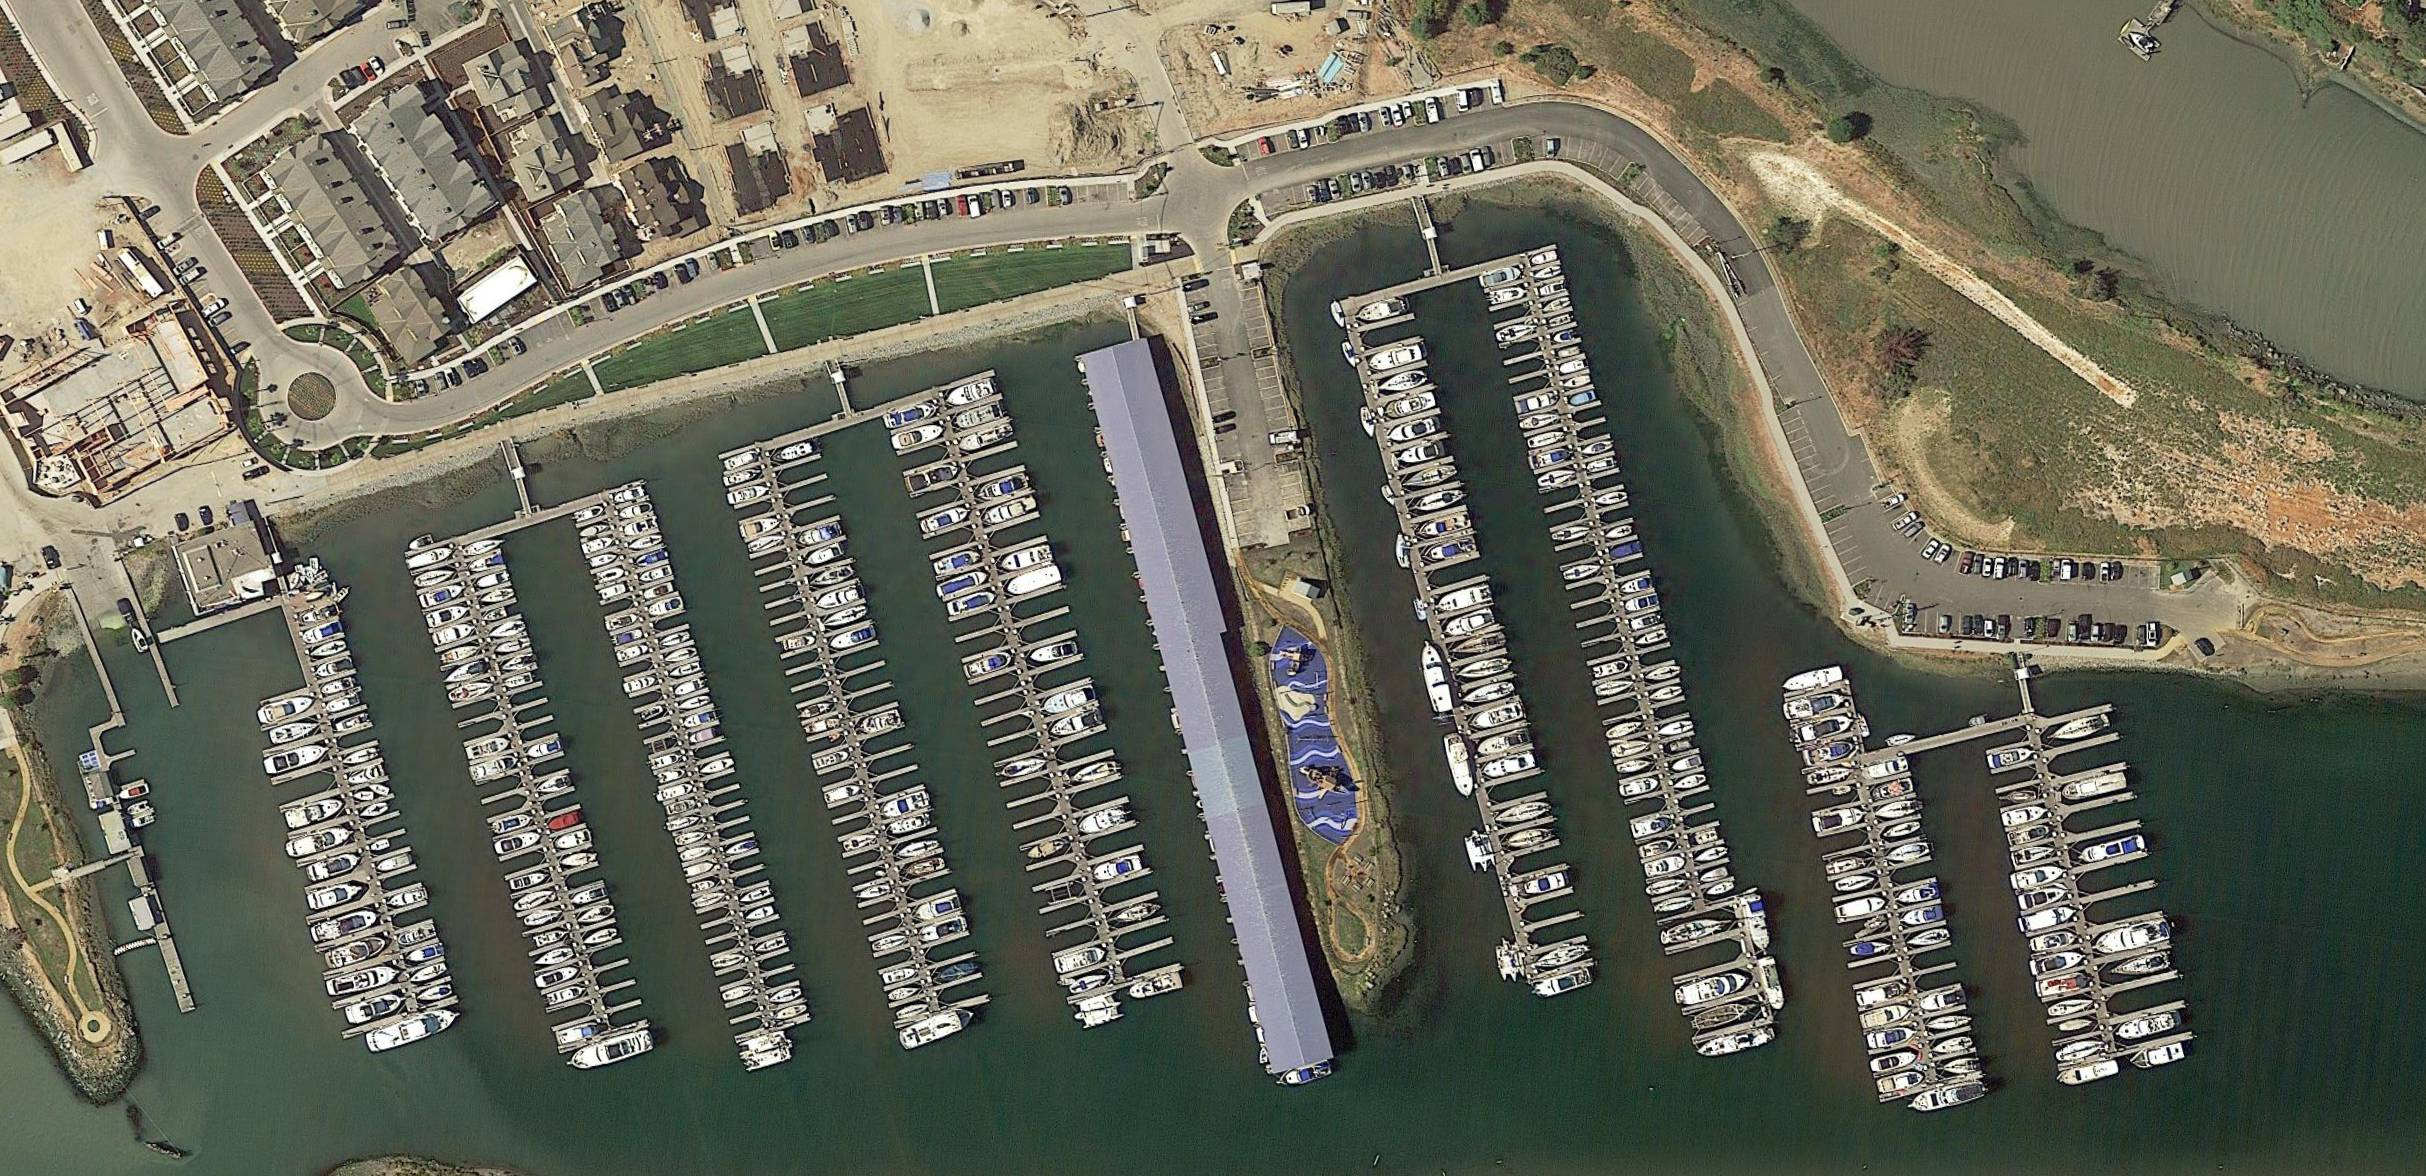harbor: (1478, 241, 1775, 1052), (885, 370, 1185, 1007), (1340, 280, 1598, 989), (716, 422, 995, 1034), (569, 477, 814, 1049), (404, 525, 654, 1058), (227, 590, 461, 1041), (1782, 668, 1985, 1106), (1979, 692, 2195, 1074), (74, 710, 215, 1021)
roundabout: (285, 365, 342, 426), (85, 1018, 104, 1035)
ship: (364, 1003, 463, 1058), (568, 1026, 656, 1074), (897, 1004, 979, 1052), (2093, 918, 2172, 958), (1905, 1079, 1987, 1117), (1696, 1023, 1778, 1061), (1416, 638, 1456, 715), (323, 962, 402, 1000), (1679, 969, 1751, 1009), (285, 823, 357, 860), (1690, 997, 1761, 1034), (1665, 911, 1734, 949), (323, 933, 390, 972), (261, 741, 333, 777), (309, 908, 381, 944), (738, 1029, 794, 1074), (1072, 989, 1126, 1034), (2113, 1007, 2183, 1041), (2059, 771, 2127, 805), (1739, 891, 1775, 955), (343, 990, 408, 1024), (1782, 689, 1847, 723), (2076, 832, 2144, 865), (1532, 967, 1594, 1003), (255, 692, 319, 726), (1273, 1057, 1334, 1092), (2107, 950, 2172, 983), (2058, 1057, 2123, 1089), (285, 795, 347, 829), (1040, 682, 1099, 718), (1792, 712, 1855, 744), (303, 850, 364, 884), (981, 494, 1038, 529), (955, 421, 1017, 453), (1417, 534, 1478, 566), (1755, 956, 1789, 1014), (2018, 904, 2079, 935), (1491, 798, 1553, 829), (306, 879, 365, 911), (882, 399, 941, 432), (1779, 665, 1844, 695), (1414, 511, 1473, 543), (890, 421, 948, 453), (904, 461, 962, 494), (1006, 563, 1061, 597), (1468, 699, 1524, 733), (1352, 294, 1413, 325), (942, 376, 999, 409), (935, 566, 992, 599), (1047, 709, 1105, 741), (1474, 727, 1532, 760), (1532, 941, 1589, 973), (2045, 713, 2104, 744), (2010, 860, 2069, 891), (1054, 942, 1109, 975), (998, 543, 1054, 576), (1481, 749, 1536, 781), (1075, 805, 1128, 839), (2035, 969, 2092, 1000), (1411, 484, 1468, 515), (1450, 630, 1507, 661), (1493, 936, 1529, 986), (1437, 583, 1491, 616), (1400, 461, 1459, 491), (1368, 342, 1423, 373), (1386, 415, 1442, 446), (917, 503, 973, 534), (976, 472, 1029, 504), (962, 648, 1015, 681), (1444, 607, 1496, 639), (1461, 679, 1518, 709), (268, 716, 322, 747), (2030, 949, 2089, 976), (2130, 1041, 2186, 1071), (1128, 972, 1184, 1001), (1464, 826, 1498, 874), (877, 791, 930, 822), (910, 893, 962, 924), (1377, 367, 1430, 398), (815, 582, 866, 613), (917, 914, 969, 945), (1092, 853, 1143, 884), (1812, 805, 1867, 832), (1854, 979, 1909, 1007), (1454, 655, 1510, 682), (2055, 1035, 2107, 1065), (1860, 1001, 1912, 1031), (1111, 897, 1163, 927), (945, 588, 998, 617), (955, 401, 1004, 432), (1802, 740, 1857, 767), (1833, 893, 1888, 921), (1383, 391, 1437, 419), (1866, 1023, 1919, 1051), (1068, 760, 1120, 788), (470, 752, 520, 781), (1874, 795, 1923, 825), (1029, 639, 1078, 668), (1521, 871, 1570, 901), (774, 438, 825, 466), (2018, 884, 2069, 911), (1396, 439, 1447, 467), (931, 548, 982, 576), (999, 754, 1051, 781), (447, 676, 495, 706), (419, 580, 467, 610), (1919, 986, 1966, 1015), (494, 829, 545, 856), (829, 624, 877, 651), (822, 603, 870, 631), (2001, 802, 2048, 829), (1505, 825, 1553, 853), (1987, 744, 2036, 771), (554, 1020, 603, 1046), (1883, 840, 1932, 867), (2030, 928, 2079, 955), (797, 520, 843, 548), (441, 658, 487, 685), (425, 602, 472, 630), (535, 962, 582, 990), (808, 563, 856, 590), (405, 545, 453, 571), (1631, 812, 1679, 839), (296, 600, 340, 628), (2047, 995, 2096, 1020), (1869, 1049, 1919, 1074), (726, 481, 772, 508), (466, 735, 512, 761), (1527, 444, 1573, 470), (2011, 842, 2058, 868), (2007, 822, 2053, 848), (1925, 1010, 1971, 1037), (859, 709, 902, 737), (1861, 757, 1909, 781), (1877, 1069, 1925, 1094), (432, 620, 477, 647), (512, 887, 557, 913), (1495, 319, 1539, 345), (1515, 390, 1560, 416), (803, 542, 845, 569), (461, 535, 507, 560), (1806, 764, 1855, 788), (1898, 904, 1945, 928), (740, 514, 783, 540), (936, 959, 979, 986), (904, 854, 947, 880), (532, 944, 576, 970), (1871, 777, 1914, 803), (1906, 925, 1949, 952), (1645, 874, 1688, 901), (1479, 265, 1524, 289), (415, 565, 456, 591), (302, 620, 343, 647), (1552, 521, 1594, 548), (1645, 854, 1686, 880), (1894, 884, 1940, 907), (385, 887, 429, 911), (492, 811, 535, 836), (439, 641, 483, 665), (1518, 409, 1561, 433), (1618, 775, 1662, 800), (576, 902, 616, 928), (896, 837, 941, 860), (1929, 1035, 1974, 1058), (546, 983, 588, 1007), (1535, 466, 1577, 491), (1068, 972, 1109, 997), (888, 812, 931, 836), (521, 905, 565, 928), (1833, 871, 1877, 894), (747, 531, 788, 556), (487, 617, 528, 642), (1026, 837, 1066, 862), (1611, 737, 1651, 761), (404, 942, 446, 966), (1881, 819, 1923, 842), (1826, 854, 1867, 877), (1940, 1055, 1982, 1079), (1652, 893, 1694, 916), (347, 763, 385, 788), (398, 922, 436, 947), (466, 551, 504, 576), (526, 737, 565, 761), (571, 884, 610, 908), (559, 848, 597, 873), (554, 828, 593, 853), (1849, 938, 1892, 959), (408, 962, 449, 986), (308, 638, 348, 661), (1604, 718, 1645, 741), (842, 829, 879, 854), (654, 781, 696, 803), (647, 596, 685, 619), (812, 747, 851, 771), (723, 449, 761, 472), (825, 781, 863, 805), (882, 964, 921, 987), (316, 656, 354, 679), (494, 634, 532, 658), (1592, 658, 1631, 681), (1563, 560, 1601, 583), (1595, 676, 1634, 699), (1638, 837, 1677, 860), (1657, 716, 1696, 740), (723, 466, 763, 487), (509, 870, 549, 891), (1997, 786, 2038, 808), (781, 631, 818, 655), (323, 692, 360, 715), (535, 774, 572, 797), (582, 925, 619, 949), (805, 715, 843, 737), (871, 932, 910, 953), (374, 853, 413, 874), (1490, 285, 1529, 306), (1623, 593, 1662, 614), (1527, 429, 1566, 450), (1691, 845, 1730, 867), (622, 515, 658, 538), (501, 651, 537, 675), (480, 585, 515, 608), (856, 882, 893, 904), (416, 983, 453, 1004), (1632, 627, 1669, 648), (1645, 662, 1682, 684), (340, 747, 379, 767), (622, 675, 658, 696), (617, 500, 653, 521), (628, 532, 664, 554), (546, 811, 582, 832), (534, 927, 569, 949), (1580, 438, 1615, 460), (1648, 682, 1683, 704), (603, 611, 641, 631), (692, 890, 729, 910), (894, 1001, 931, 1021), (887, 984, 924, 1004), (1392, 532, 1413, 569), (572, 503, 606, 525), (634, 548, 668, 569), (767, 986, 801, 1007), (336, 712, 370, 733), (477, 569, 511, 591), (1618, 576, 1652, 597), (1609, 540, 1643, 562), (1595, 487, 1629, 509), (128, 624, 152, 655), (682, 709, 718, 729), (699, 757, 735, 777), (665, 812, 701, 832), (662, 645, 698, 665), (721, 983, 757, 1003), (1671, 772, 1707, 792), (613, 484, 645, 506), (642, 580, 675, 602), (1327, 299, 1349, 331), (1615, 757, 1652, 775), (668, 661, 702, 681), (678, 693, 712, 713), (650, 750, 684, 771), (679, 843, 713, 863), (639, 563, 673, 583), (582, 535, 616, 556), (738, 887, 772, 907), (798, 701, 832, 721), (712, 952, 746, 972), (774, 1003, 808, 1023), (357, 802, 391, 822), (320, 676, 354, 696), (118, 781, 152, 802), (1358, 405, 1379, 439), (665, 797, 698, 817), (579, 520, 611, 540), (1697, 867, 1730, 887), (1669, 754, 1702, 774), (724, 839, 758, 857), (682, 860, 716, 879), (616, 644, 650, 662), (753, 936, 788, 955), (1884, 730, 1919, 749), (673, 678, 704, 698), (588, 549, 619, 569), (596, 565, 627, 585), (1541, 296, 1572, 316), (1532, 263, 1563, 283), (1603, 523, 1634, 543), (1584, 455, 1615, 475), (2058, 1017, 2093, 1034), (675, 829, 707, 848), (659, 630, 692, 648), (613, 627, 645, 645), (1703, 879, 1736, 897), (658, 767, 689, 786), (1558, 357, 1589, 376), (1340, 340, 1358, 371), (600, 580, 628, 600), (504, 672, 534, 690), (1563, 373, 1592, 391), (1538, 280, 1566, 299), (746, 905, 775, 922), (1530, 251, 1560, 268), (408, 534, 435, 552), (689, 727, 716, 744), (1569, 390, 1597, 407), (125, 800, 150, 817), (483, 607, 507, 624), (1558, 344, 1581, 361), (692, 879, 715, 893)
